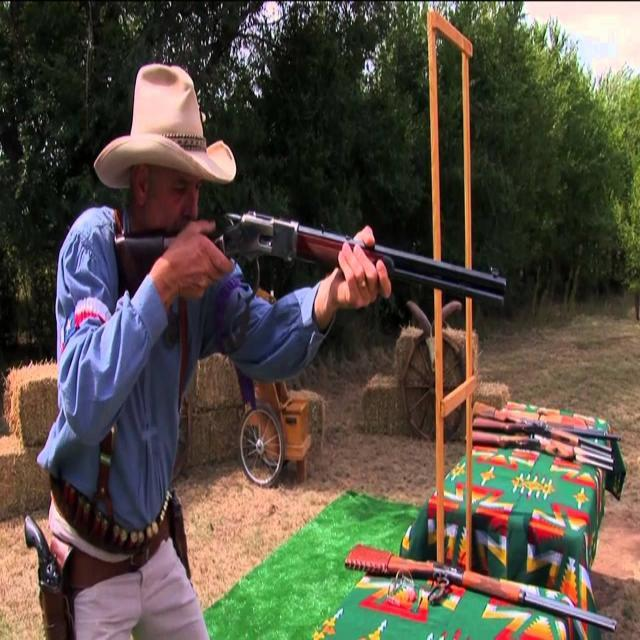weapon: (114, 202, 506, 364)
